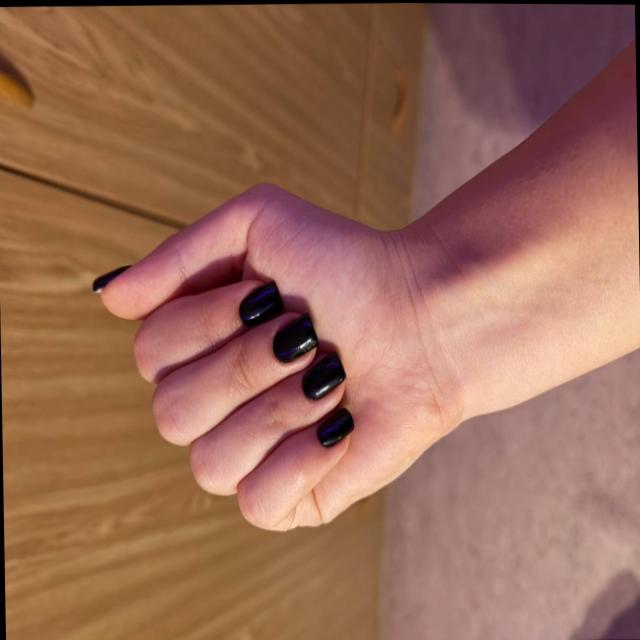a: (78, 161, 406, 540)
